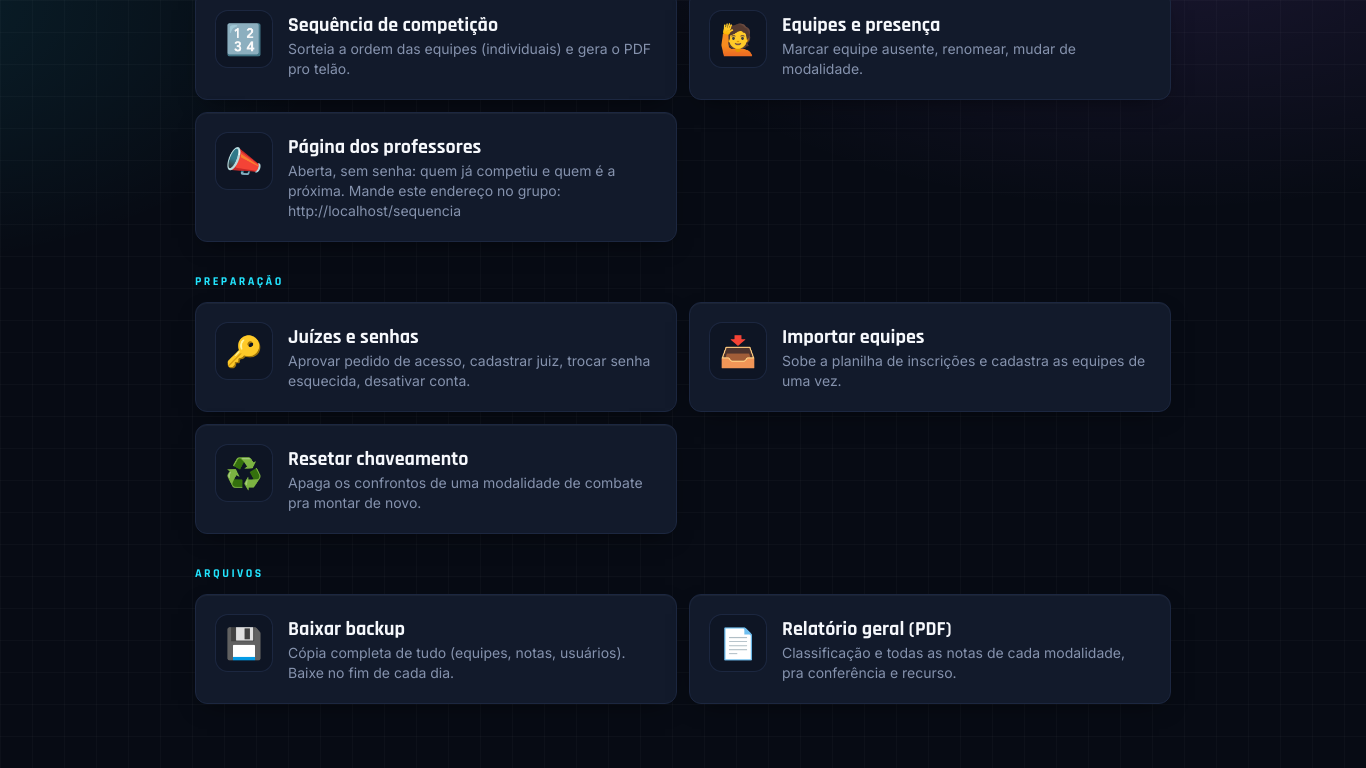
Test: AdminPage › mostra erro se o backup falhar
(page scrolled)
Click the button "Baixar backup". click: (436,649)
box: [195,594,677,704]
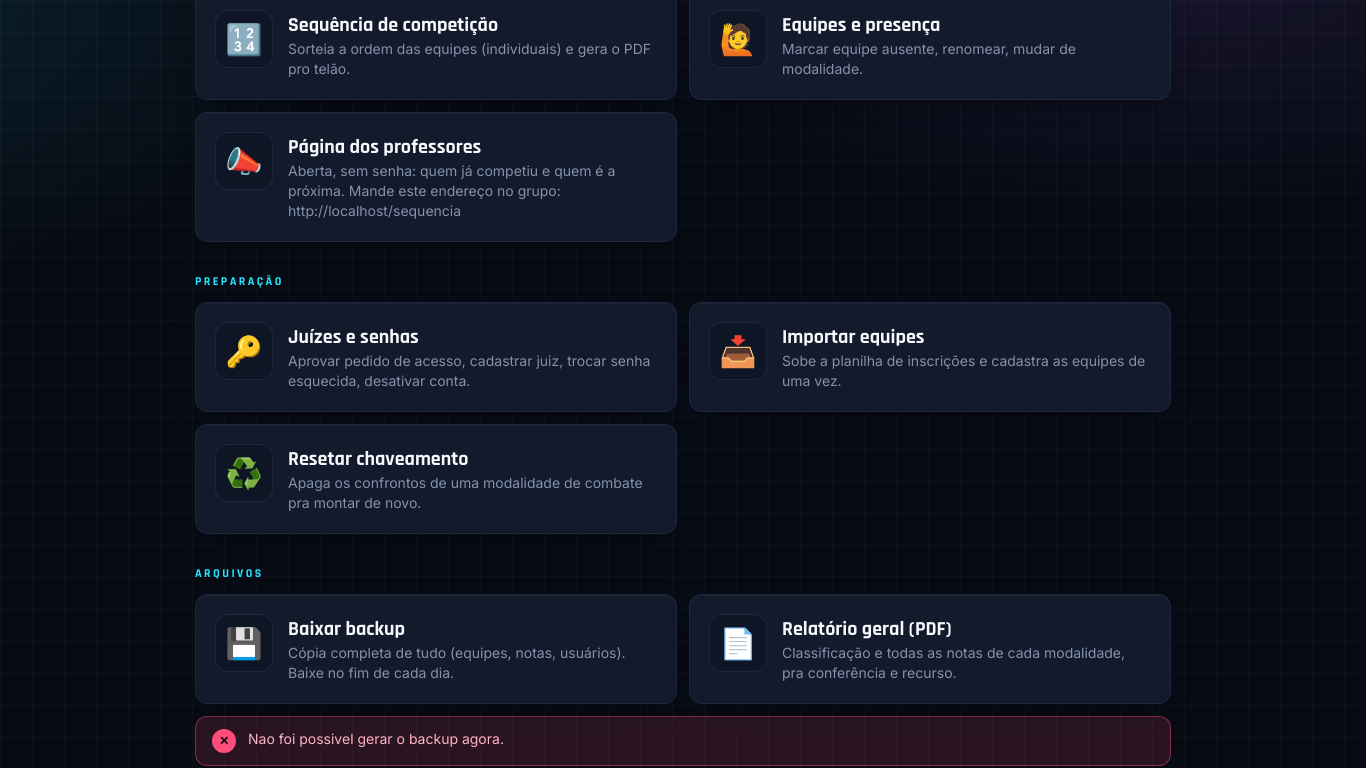
Expected: the text "Nao foi possivel gerar o backup agora." is shown, [248,730,504,747]
